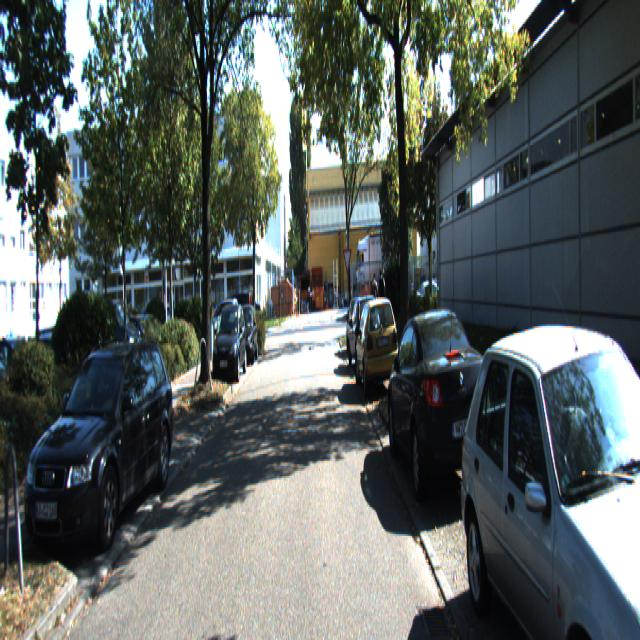Car: (456, 297, 640, 638), (24, 336, 174, 572), (385, 300, 497, 514), (353, 292, 401, 401), (211, 301, 248, 385), (347, 292, 381, 375), (233, 302, 258, 365)
